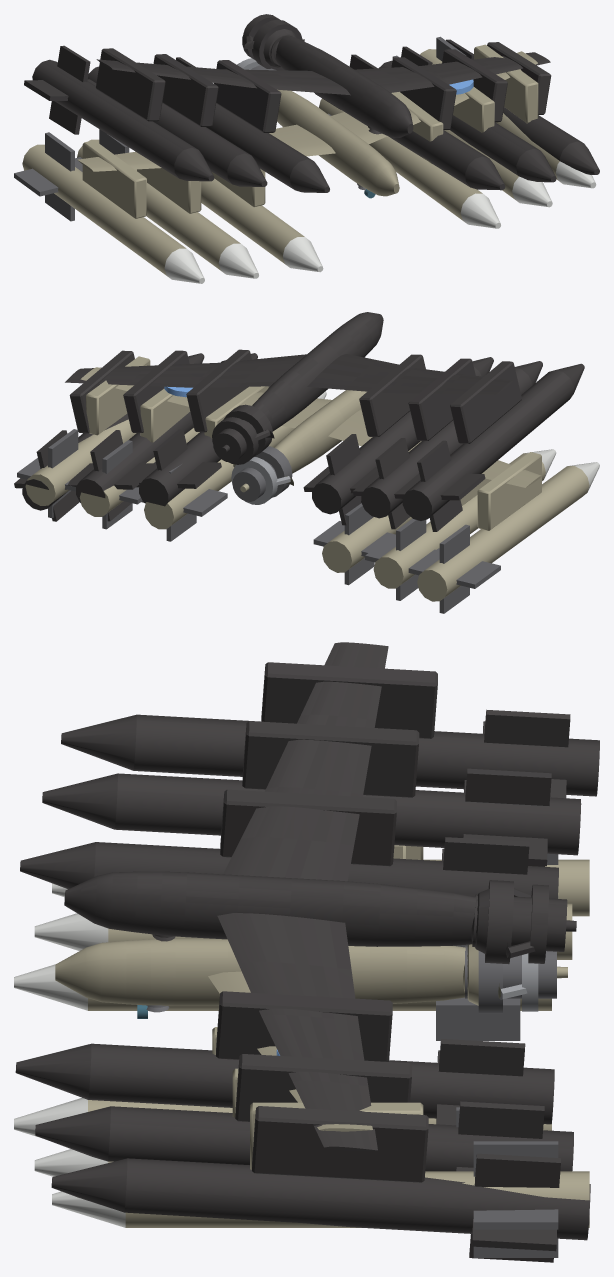
Rendered from carrierDrone__scaneagle.glb.
3 renders of one model, top to bottom at view 1: azimuth 30°, elevation 25°; view 2: azimuth 150°, elevation 25°; view 3: azimuth 270°, elevation 25°, orthographic. The views are drawn at different scales.
Visible parts, largest first — view 1: Wreck, Fuselage_Mesh; view 2: Wreck, Fuselage_Mesh, Propeller_Mesh; view 3: Wreck, Fuselage_Mesh, Propeller_Mesh.
Boxes of the visible parts, bbox=[...] form: Wreck: bbox=[24, 14, 599, 192]; Fuselage_Mesh: bbox=[14, 36, 596, 283]; Wreck: bbox=[14, 312, 584, 531]; Fuselage_Mesh: bbox=[17, 356, 599, 613]; Propeller_Mesh: bbox=[231, 446, 293, 504]; Wreck: bbox=[15, 642, 599, 1262]; Fuselage_Mesh: bbox=[14, 845, 589, 1257]; Propeller_Mesh: bbox=[463, 944, 567, 1013].
Size of what is drawn, in the model's own units: 3.25 by 1.26 by 2.17.
